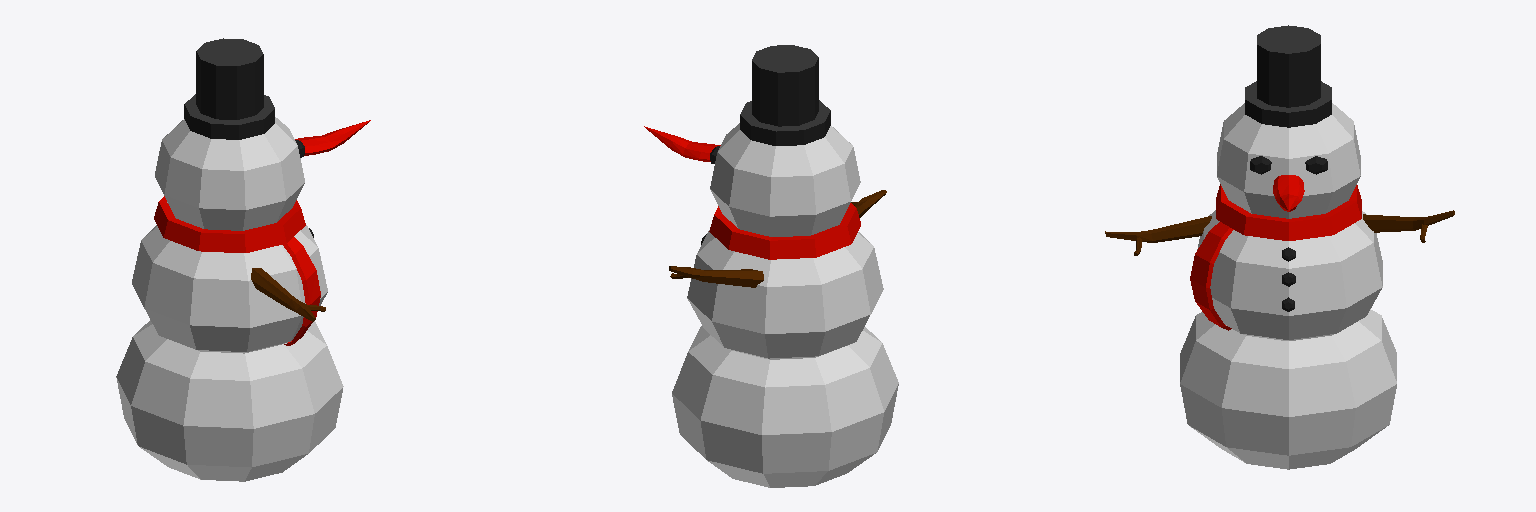
The picture shows the model from 3 angles: view 1: azimuth 30°, elevation 25°; view 2: azimuth 150°, elevation 25°; view 3: azimuth 270°, elevation 25°; orthographic projection.
Visible parts, largest first — view 1: snowman; view 2: snowman; view 3: snowman.
Part boxes in pixels (bbox=[...]): snowman: bbox=[116, 38, 370, 481]; snowman: bbox=[644, 45, 898, 487]; snowman: bbox=[1105, 25, 1454, 469].
Bounding box in the file's own units: 37.12 × 60.42 × 46.66.
Materials: 1 (1 with a texture image).